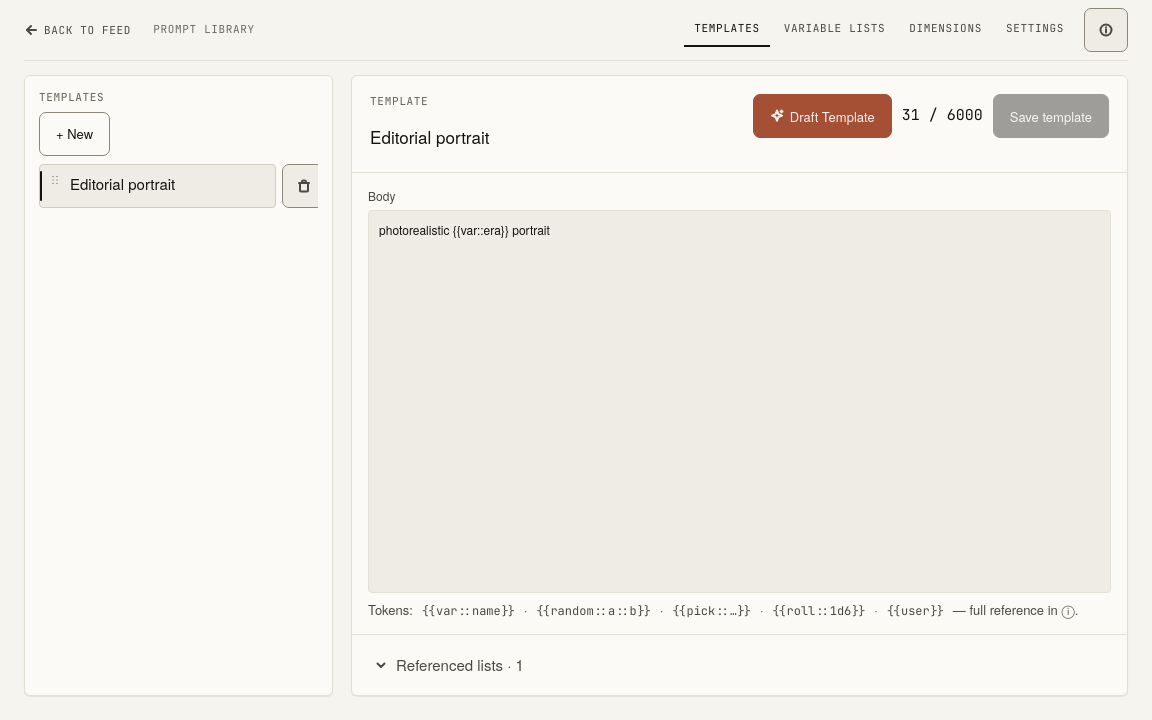
Test: PromptManager › help is an on-demand dialog toggled by the header info button
Expected: the dialog "How the prompt library works" is not shown
Click the button named "How the prompt library works" at (1106, 30), box [1084,8,1128,52]
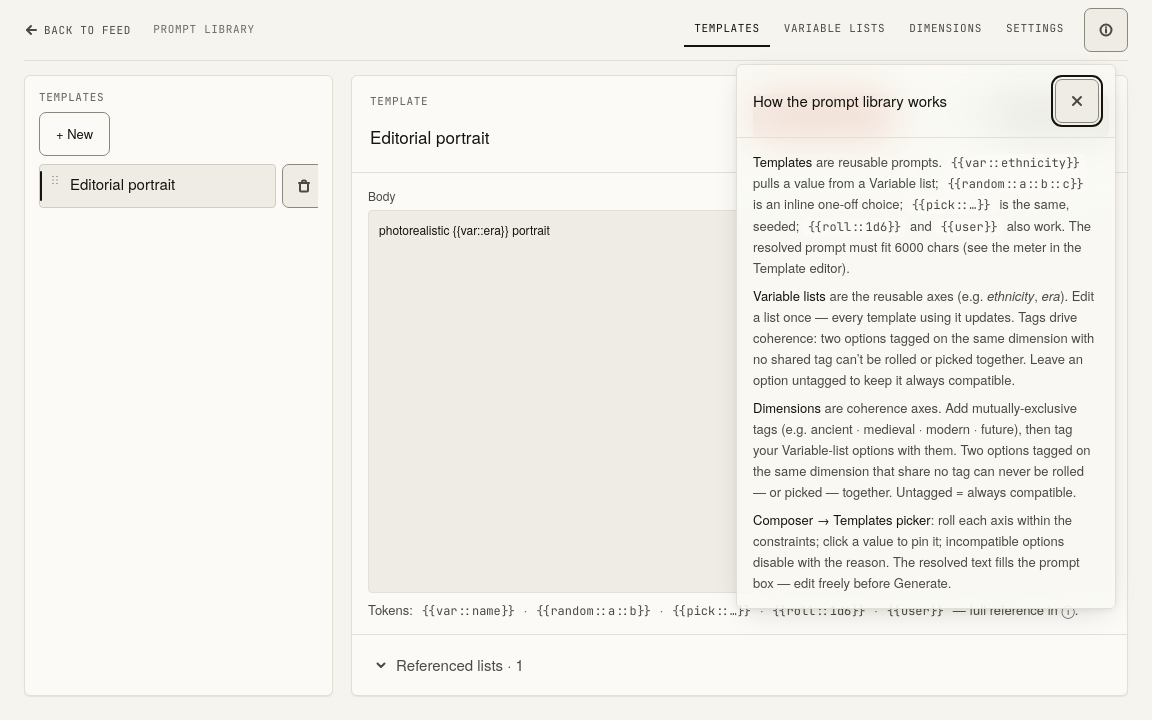
Now the dialog "How the prompt library works" shows "Templates", box [753,152,812,171]
Press Escape
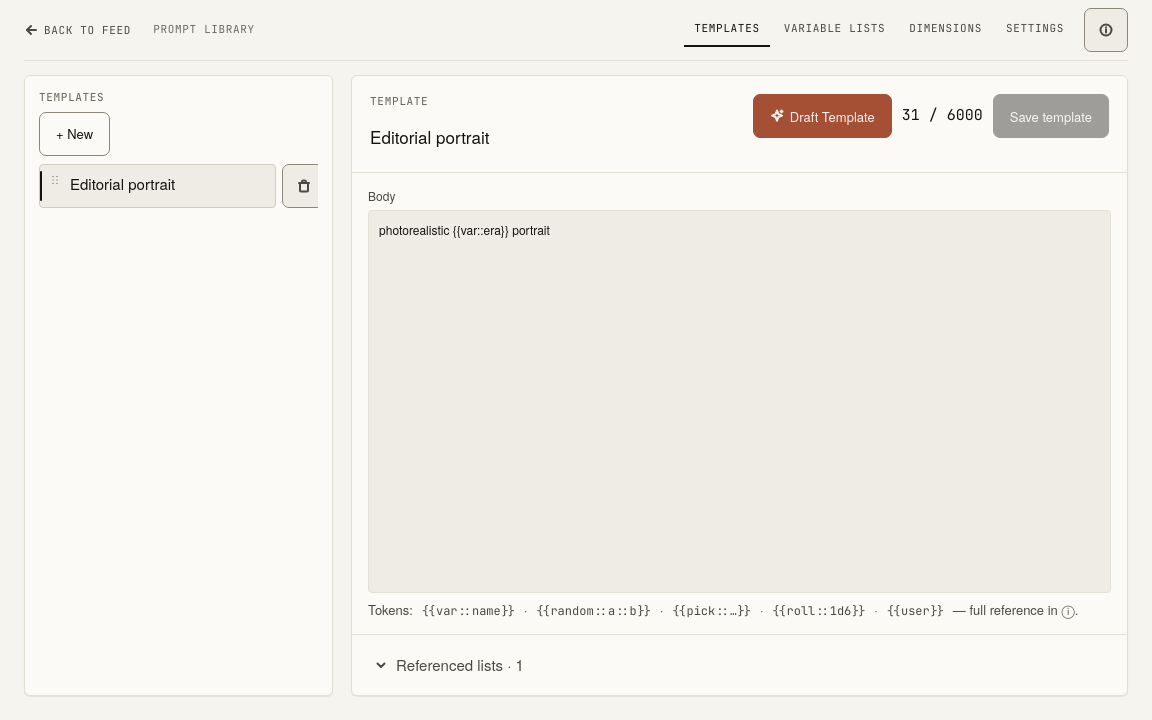
Now the heading "How the prompt library works" is gone
